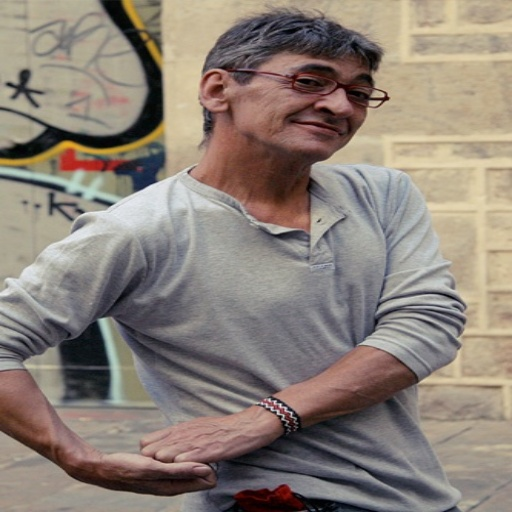hand: (118, 402, 302, 468), (78, 451, 215, 497)
